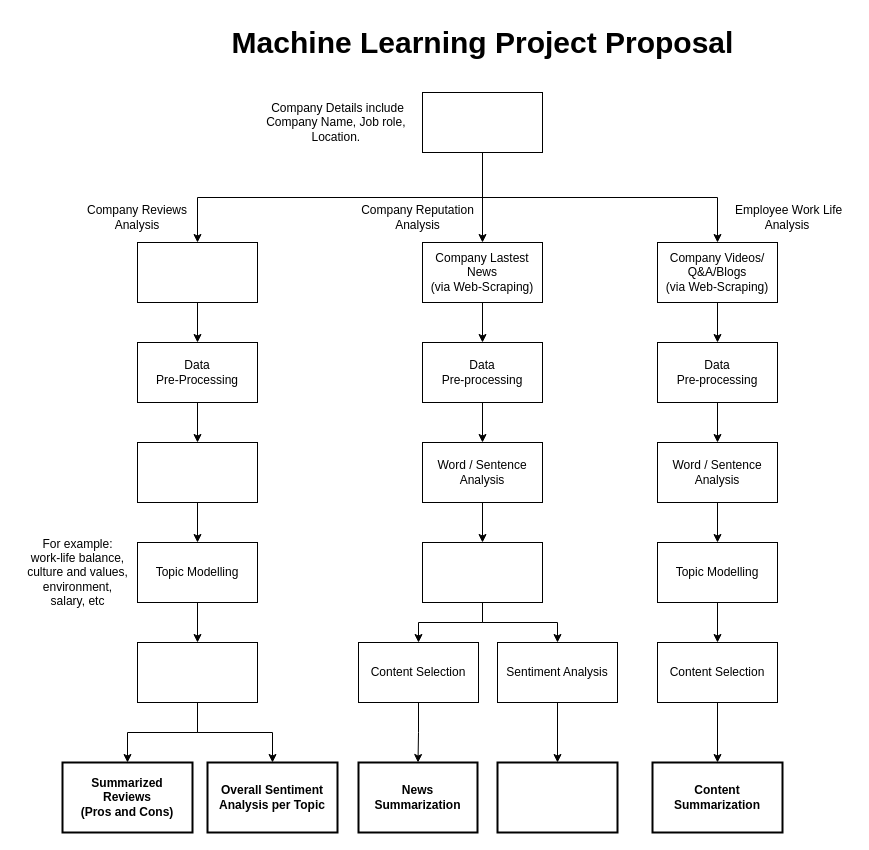
Some shapes in this 869 by 850 pixel diagram are drawn without their labels. Here are the shapes that lost their labels. From the top down, the centre of each, then its label:
At (x=482, y=122): "Company Details".
At (x=197, y=272): "Company Reviews (via Web-Scraping)".
At (x=197, y=472): "Word Embeddings".
At (x=482, y=572): "Topic / Theme Modelling".
At (x=197, y=672): "Aspect Oriented Sentiment Analysis".
At (x=557, y=797): "News Sentiment Analysis (Overall Sentiment of Latest News)".
